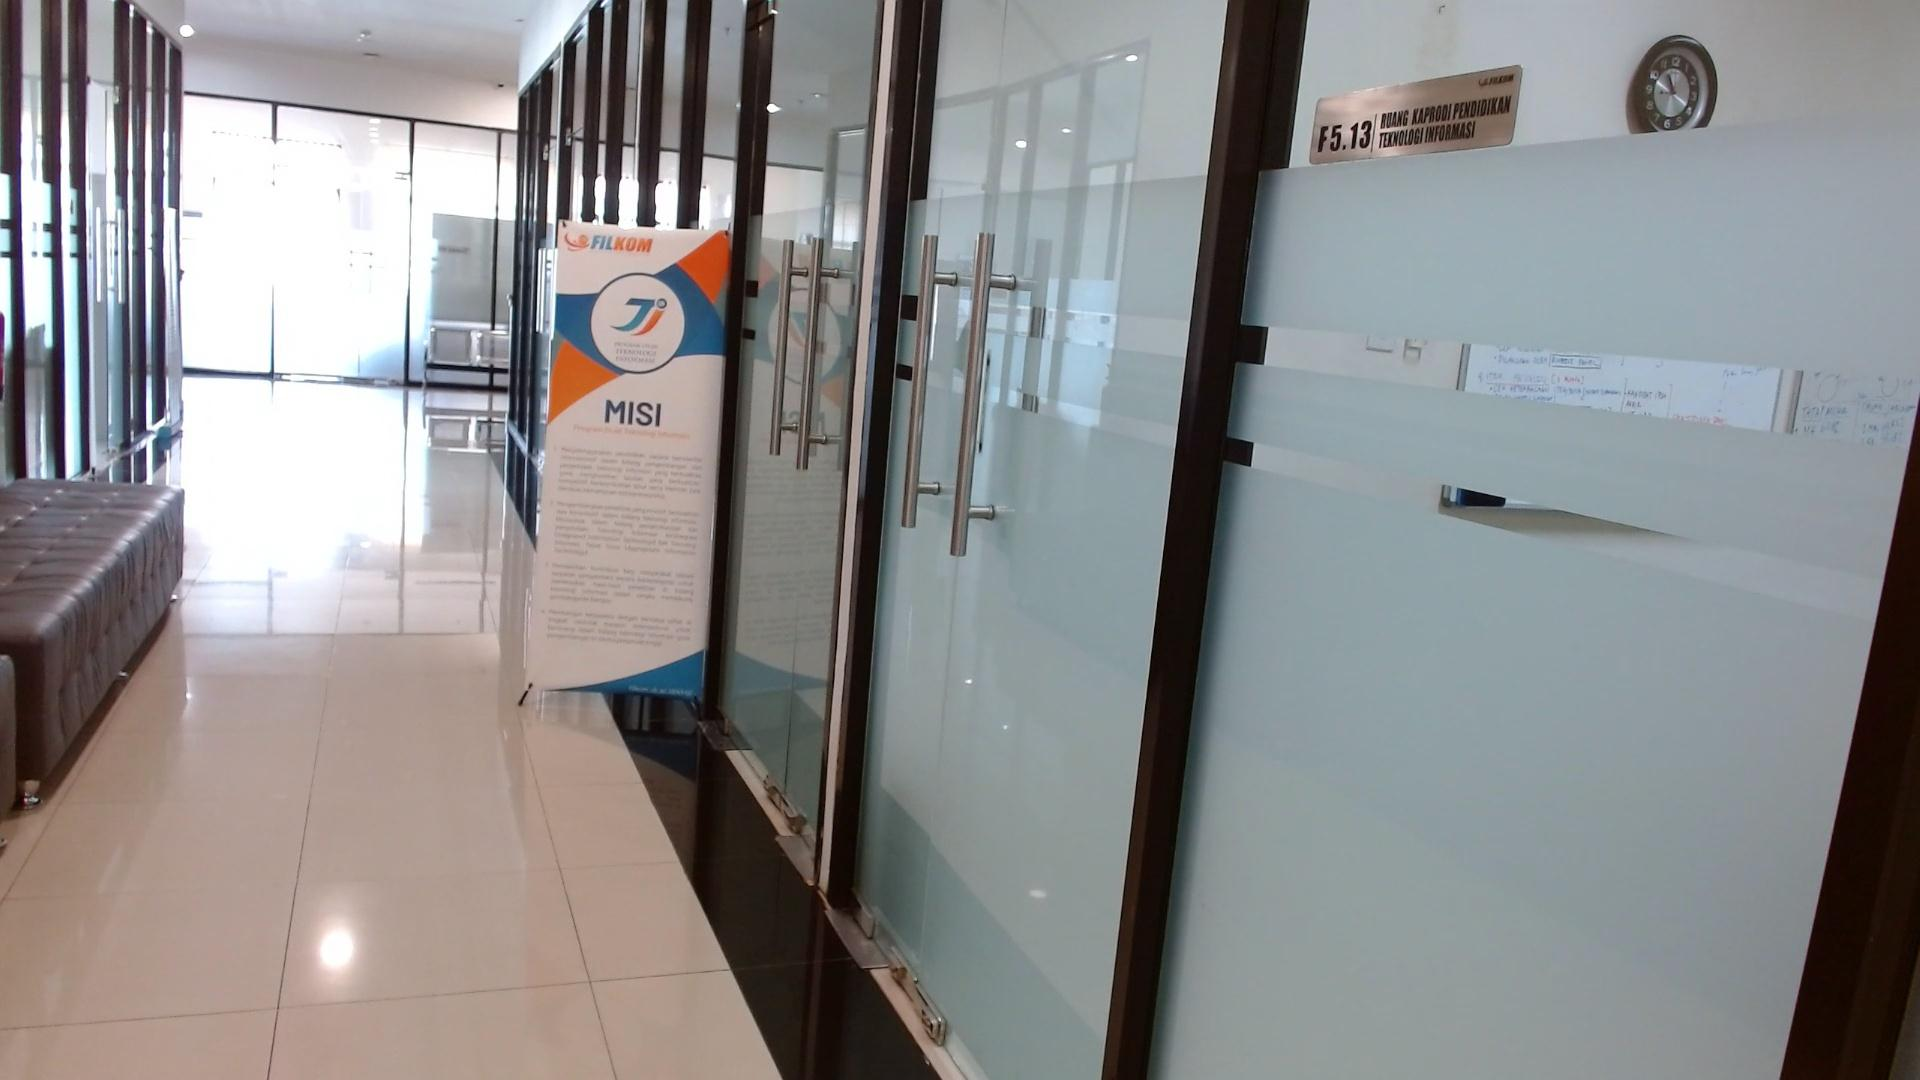plate: (1309, 66, 1523, 165)
